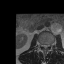CCS_normal: (44, 42, 46, 51)
LFS_normal: (48, 42, 50, 48)
LLS_normal: (46, 43, 48, 50)
RFS_normal: (40, 42, 42, 48)
RLS_normal: (42, 42, 44, 49)
